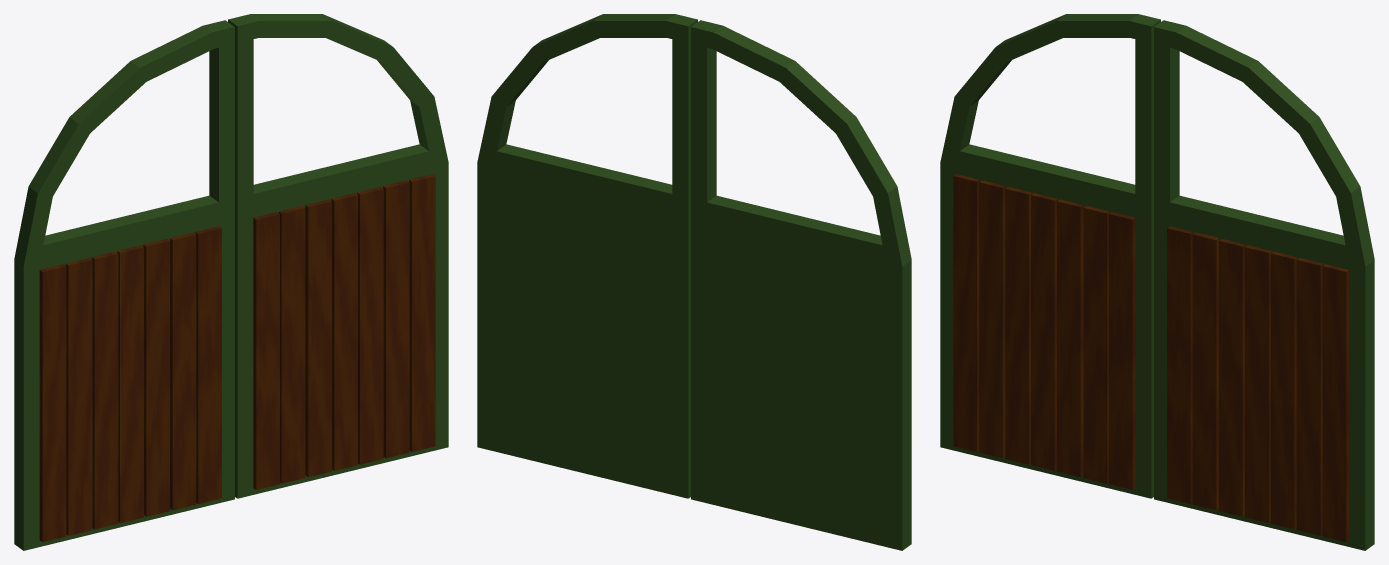
File: Building_3_doorBalc.fbx
3 renders of one model, left to right at view 1: azimuth 30°, elevation 25°; view 2: azimuth 150°, elevation 25°; view 3: azimuth 330°, elevation 25°, orthographic.
Parts seen in each view (by area): view 1: NewDoorBalc_3.001; view 2: NewDoorBalc_3.001; view 3: NewDoorBalc_3.001.
Part boxes in pixels (x1,y1,x2,y2): NewDoorBalc_3.001: (14,14,448,550); NewDoorBalc_3.001: (477,14,911,550); NewDoorBalc_3.001: (940,14,1374,550).
Bounding box in the file's own units: 3.39 × 67.55 × 71.71.
Materials: 1 (1 with a texture image).
